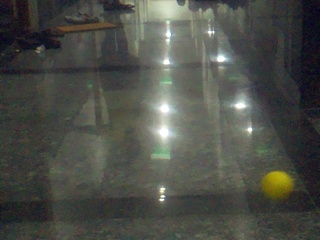ball: (261, 171, 293, 200)
